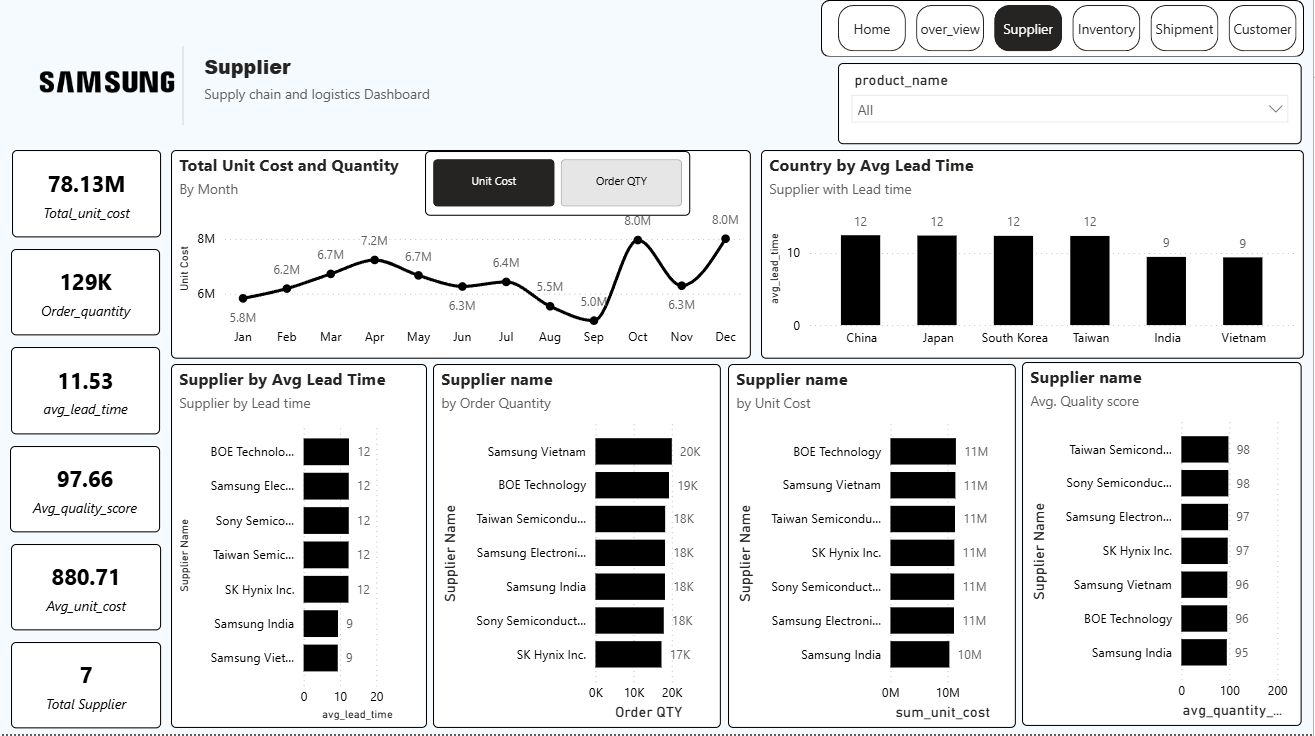

The dashboard page shown, as its layout file describes it:
{"tool":"powerbi","page":{"name":"Supplier","canvas":[1280,720],"ordinal":2},"visuals":[{"type":"image","box":[0,0,214,171.2],"z":0},{"type":"shape","box":[73.9,50.6,214,76.8],"z":1000},{"type":"textbox","title":"Supplier ","box":[196.5,56.4,250,58.4],"z":2000},{"type":"card","fields":{"Values":["Sum(Procurement.order_quantity)"]},"box":[13.6,248.3,145,84],"z":3000},{"type":"card","fields":{"Values":["measure_table.avg_lead_time"]},"box":[13.6,343.6,145,84.8],"z":4000},{"type":"card","fields":{"Values":["Avg(Supplier.avg_quality_score)"]},"box":[12.6,439.7,145.9,84],"z":5000},{"type":"card","fields":{"Values":["Total_unit_cost.Avg_unit_cost"]},"box":[13.6,535,145.9,84],"z":6000},{"type":"card","fields":{"Values":["CountNonNull(Supplier.supplier_id)"]},"box":[13.6,630.3,145.9,84],"z":7000},{"type":"card","title":"Gross Profit ","fields":{"Values":["Total_unit_cost.sum_unit_cost"]},"box":[14.6,152.1,145,85],"z":8000},{"type":"shape","box":[801.5,5.8,469.8,55.4],"z":9000},{"type":"clusteredBarChart","title":"Supplier by Avg Lead Time ","fields":{"Y":["measure_table.avg_lead_time"],"Category":["Supplier.supplier_name"]},"box":[169.2,359.9,249,354],"z":10000},{"type":"clusteredBarChart","title":"Supplier name","fields":{"Y":["Total_unit_cost.Order QTY"],"Category":["Supplier.supplier_name"]},"box":[424.1,359.9,280.1,354],"z":11000},{"type":"clusteredBarChart","title":"Supplier name ","fields":{"Y":["Total_unit_cost.sum_unit_cost"],"Category":["Supplier.supplier_name"]},"box":[711,359.9,280.1,354],"z":12000},{"type":"columnChart","title":"Country by Avg Lead Time ","fields":{"Category":["Supplier.country"],"Y":["Total_unit_cost.avg_lead_time"]},"box":[743.1,151.7,528.1,203.3],"z":13000},{"type":"group","id":"g1","title":"Group 1","box":[169.2,151.7,564.5,203.1],"z":14000},{"type":"lineChart","title":"Total Unit Cost and Quantity","fields":{"Y":["All_Measure.sum_unit_cost"],"Category":["Data.Month_sort"]},"box":[169.2,151.7,564.5,203.1],"z":15000,"group":"g1"},{"type":"clusteredBarChart","title":"Supplier name","fields":{"Y":["Total_unit_cost.avg_quantity_score"],"Category":["Supplier.supplier_name"]},"box":[997,357.9,272.3,354],"z":15000},{"type":"pageNavigator","box":[818,10.7,451.3,45.7],"z":16000},{"type":"advancedSlicerVisual","fields":{"Values":["Cost_Qty_supplier.Cost_Qty_supplier"]},"box":[416.1,152.7,258,62.7],"z":16000,"group":"g1"},{"type":"slicer","fields":{"Values":["Product.product_name"]},"box":[817.6,66.8,451.3,78.9],"z":17000}]}

Visuals, with their boxes in screenshot pixels (x1, y1, x2, y2), scaled from the page's 1280x720 canvas onto the 1315x736 screenshot:
image: (x1=0, y1=0, x2=220, y2=175)
shape: (x1=76, y1=52, x2=296, y2=130)
"Supplier " textbox: (x1=202, y1=58, x2=459, y2=117)
card - Sum(Procurement.order_quantity): (x1=14, y1=254, x2=163, y2=340)
card - measure_table.avg_lead_time: (x1=14, y1=351, x2=163, y2=438)
card - Avg(Supplier.avg_quality_score): (x1=13, y1=449, x2=163, y2=535)
card - Total_unit_cost.Avg_unit_cost: (x1=14, y1=547, x2=164, y2=633)
card - CountNonNull(Supplier.supplier_id): (x1=14, y1=644, x2=164, y2=730)
"Gross Profit " card: (x1=15, y1=155, x2=164, y2=242)
shape: (x1=823, y1=6, x2=1306, y2=63)
"Supplier by Avg Lead Time " clusteredBarChart: (x1=174, y1=368, x2=430, y2=730)
"Supplier name" clusteredBarChart: (x1=436, y1=368, x2=723, y2=730)
"Supplier name " clusteredBarChart: (x1=730, y1=368, x2=1018, y2=730)
"Country by Avg Lead Time " columnChart: (x1=763, y1=155, x2=1306, y2=363)
"Group 1" group: (x1=174, y1=155, x2=754, y2=363)
"Total Unit Cost and Quantity" lineChart: (x1=174, y1=155, x2=754, y2=363)
"Supplier name" clusteredBarChart: (x1=1024, y1=366, x2=1304, y2=728)
pageNavigator: (x1=840, y1=11, x2=1304, y2=58)
advancedSlicerVisual - Cost_Qty_supplier.Cost_Qty_supplier: (x1=427, y1=156, x2=693, y2=220)
slicer - Product.product_name: (x1=840, y1=68, x2=1304, y2=149)
